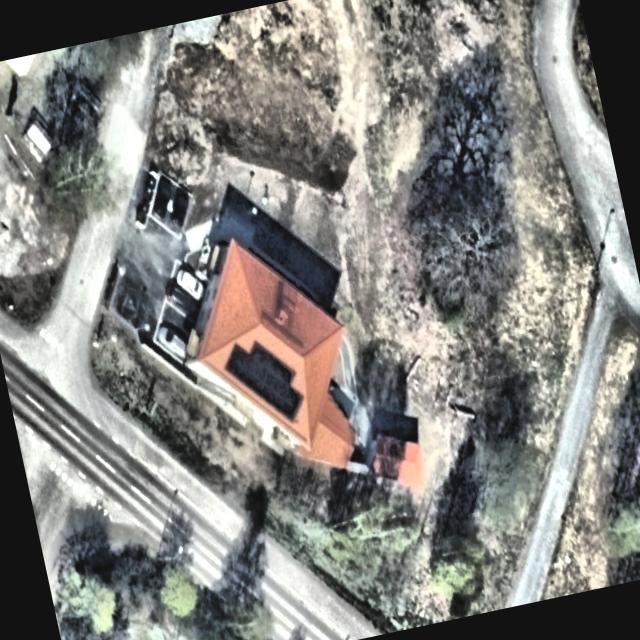roof_pv: (219, 325, 312, 434)
